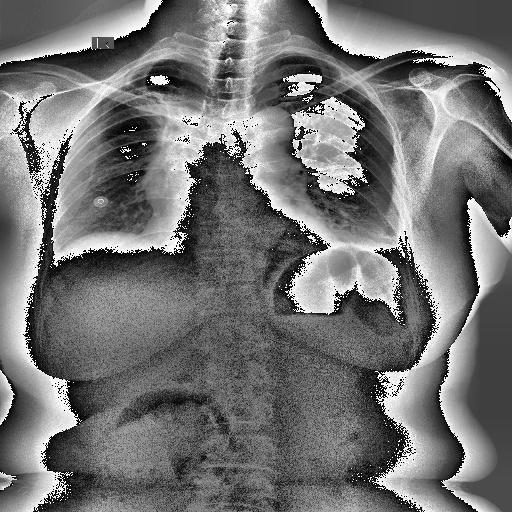0- Aortic enlargement: (239, 106, 295, 165), (232, 108, 292, 154), (250, 107, 294, 157)
1- Atelectasis: (140, 102, 194, 224)
10- Pleural effusion: (372, 216, 410, 265), (362, 220, 407, 260)
11- Pleural thickening: (372, 216, 410, 265), (362, 220, 407, 260)
13- Pulmonary fibrosis: (124, 80, 166, 132), (126, 79, 176, 120), (116, 76, 166, 106), (360, 226, 396, 242), (368, 230, 396, 242)
3- Cardiomegaly: (138, 216, 346, 258), (142, 223, 346, 257)
4- Consolidation: (140, 102, 194, 224)
7- Lung Opacity: (146, 98, 202, 182)
9- Other lesion: (144, 122, 192, 208)
